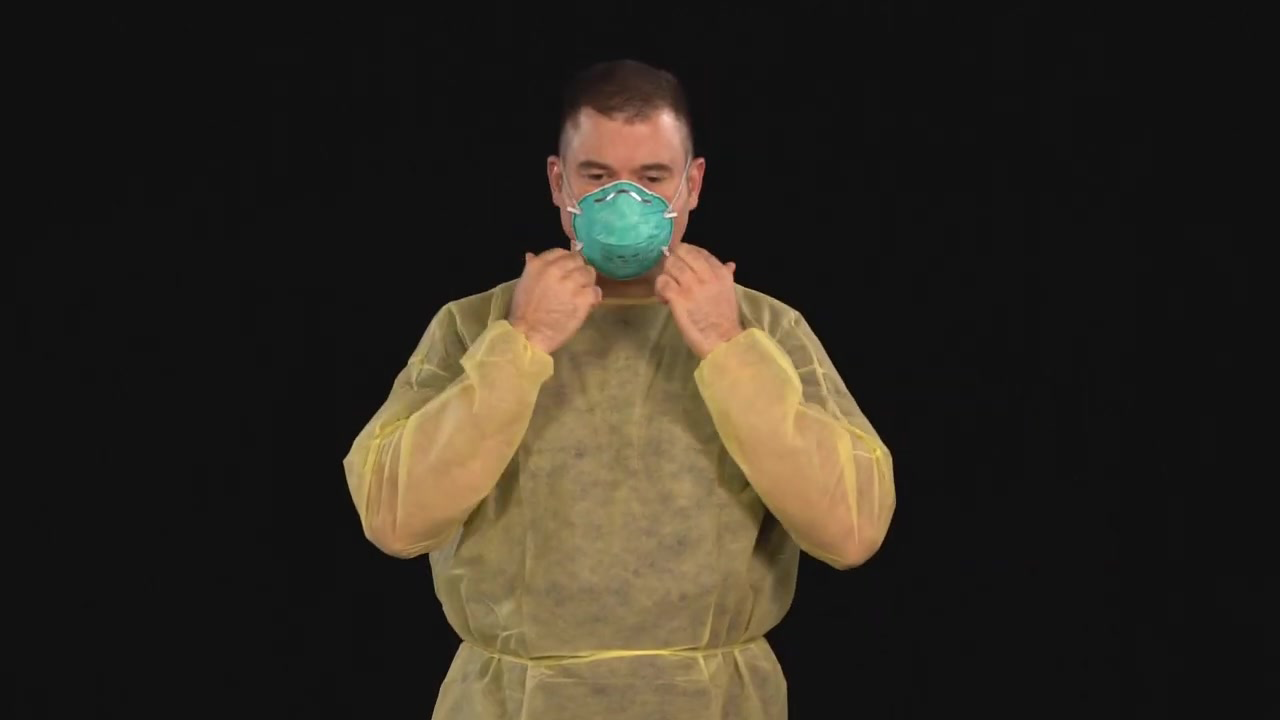Coverall: (378, 274, 845, 720)
with_mask: (572, 168, 671, 275)
